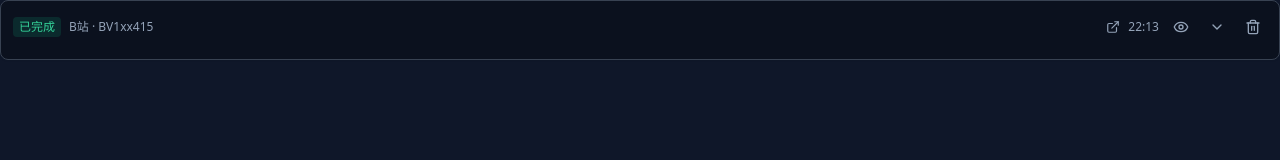
TaskRow 预览：视频无字幕轨（仅元信息入库）
Step 1. Click the button named "展开预览" → [1217, 27], box [1203,13,1231,41]
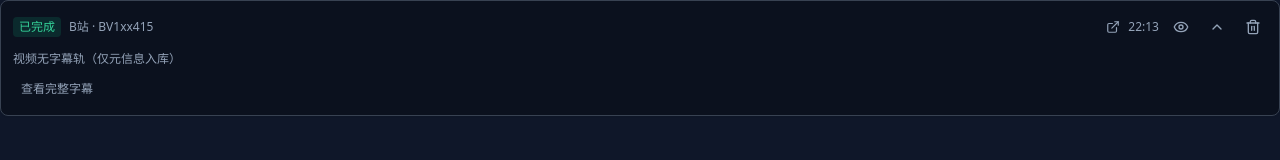
Now the text "视频无字幕轨（仅元信息入库）" is shown, box [13,51,181,67]
